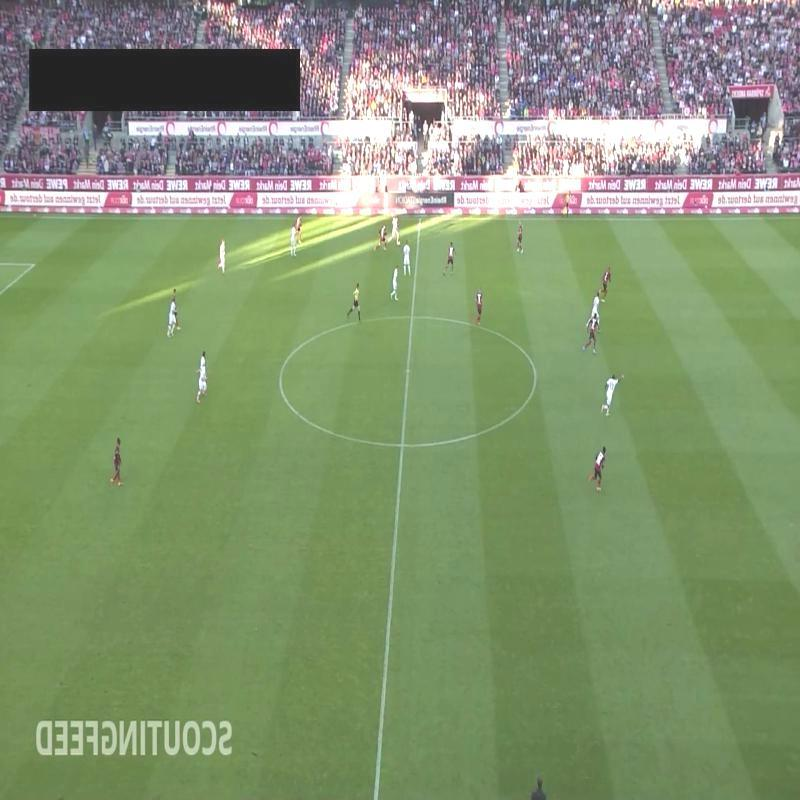13: (414, 212, 428, 225)
14: (404, 309, 420, 325)
15: (392, 436, 410, 454)
9: (26, 256, 40, 270)
c: (274, 363, 289, 379), (530, 372, 544, 386)
